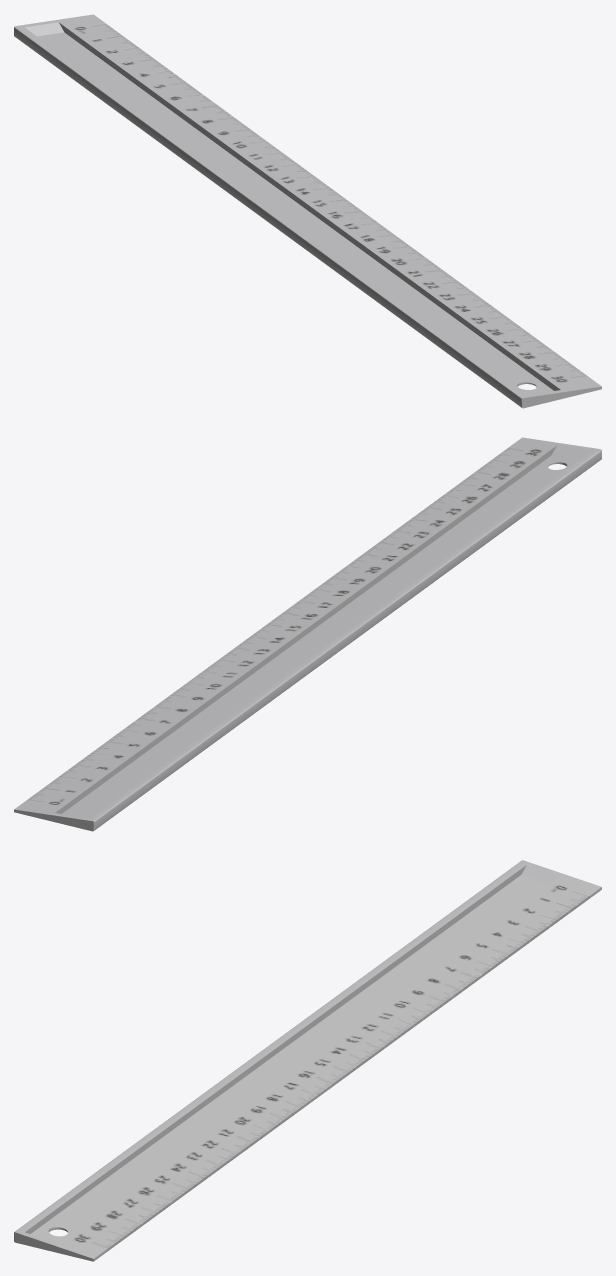
File: metal_ruler.glb
The picture shows the model from 3 angles, top to bottom: view 1: azimuth 30°, elevation 25°; view 2: azimuth 150°, elevation 25°; view 3: azimuth 330°, elevation 25°; orthographic projection.
Parts seen in each view (by area): view 1: Object_2; view 2: Object_2; view 3: Object_2.
Part boxes in pixels (x1,y1,x2,y2): Object_2: (14, 14, 601, 408); Object_2: (14, 437, 601, 831); Object_2: (14, 860, 601, 1261).
Size of the model in its own units: 3.19 by 0.3899 by 35.
Materials: 1 (1 with a texture image).
